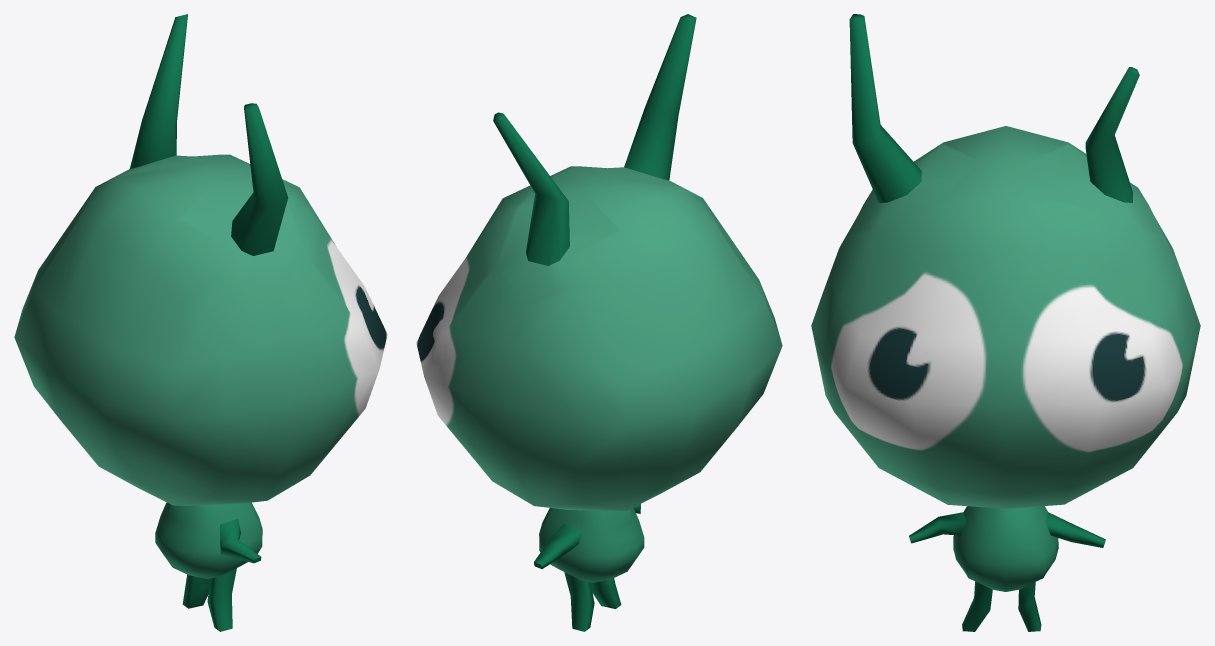
File: alien.fbx
The picture shows the model from 3 angles, left to right: view 1: azimuth 30°, elevation 25°; view 2: azimuth 150°, elevation 25°; view 3: azimuth 270°, elevation 25°; orthographic projection. The views are drawn at different scales.
Visible parts, largest first — view 1: head.007, body.004; view 2: head.007, body.004; view 3: head.007, body.004.
Boxes of the visible parts, box(x1,y1,x2,y2) form: head.007: box(14, 14, 387, 505); body.004: box(155, 502, 262, 631); head.007: box(416, 14, 782, 510); body.004: box(534, 504, 644, 631); head.007: box(811, 14, 1200, 508); body.004: box(909, 506, 1105, 631).
Size of the model in its own units: 77.38 by 136 by 80.3.
1 material, 1 textured.
